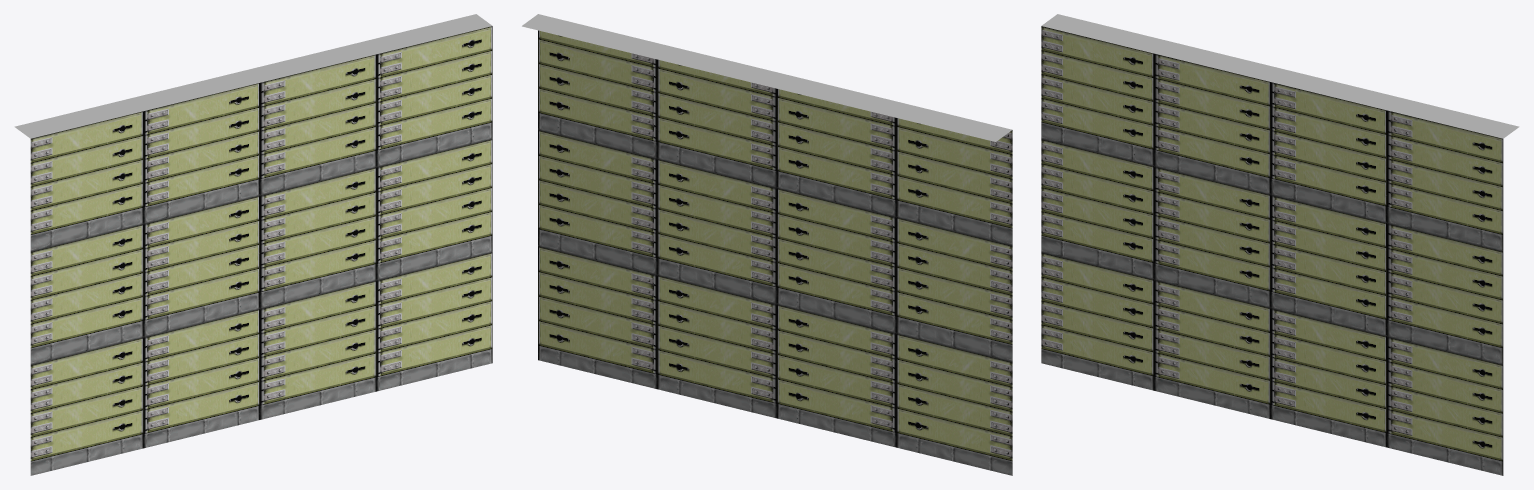
Rendered from W_I3_xx [Schließfächer]_144.glb.
3 views of the same model, side by side, from view 1: azimuth 30°, elevation 25°; view 2: azimuth 150°, elevation 25°; view 3: azimuth 330°, elevation 25° (orthographic). The views are drawn at different scales.
Parts seen in each view (by area): view 1: pPlaneShape2, pPlaneShape1; view 2: pPlaneShape2, pPlaneShape1; view 3: pPlaneShape2, pPlaneShape1.
Boxes of the visible parts, x1=… form: pPlaneShape2: x1=30, y1=26, x2=492, y2=475; pPlaneShape1: x1=14, y1=14, x2=492, y2=138; pPlaneShape2: x1=538, y1=30, x2=1012, y2=475; pPlaneShape1: x1=522, y1=14, x2=1012, y2=141; pPlaneShape2: x1=1041, y1=26, x2=1503, y2=475; pPlaneShape1: x1=1041, y1=14, x2=1519, y2=138.
Bounding box in the file's own units: 0.5 × 0.3486 × 0.0308.
2 materials, 1 textured.
